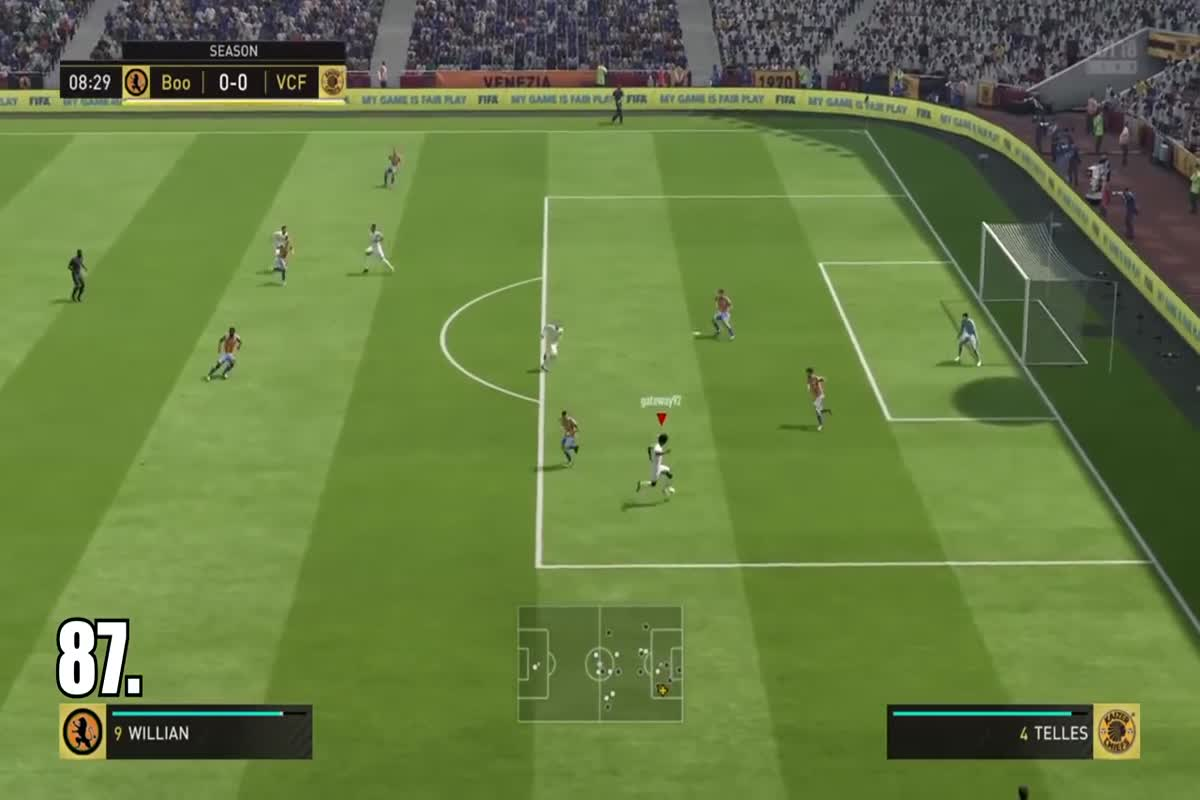ball: (660, 478, 688, 503)
